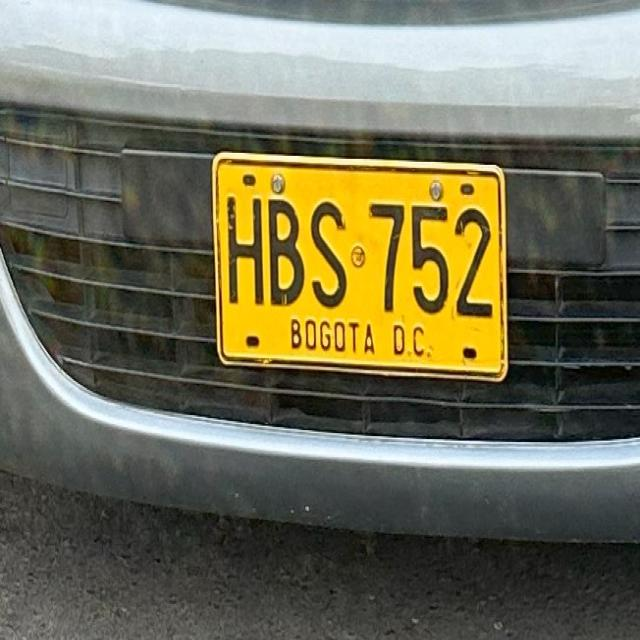number plate: (211, 151, 506, 378)
